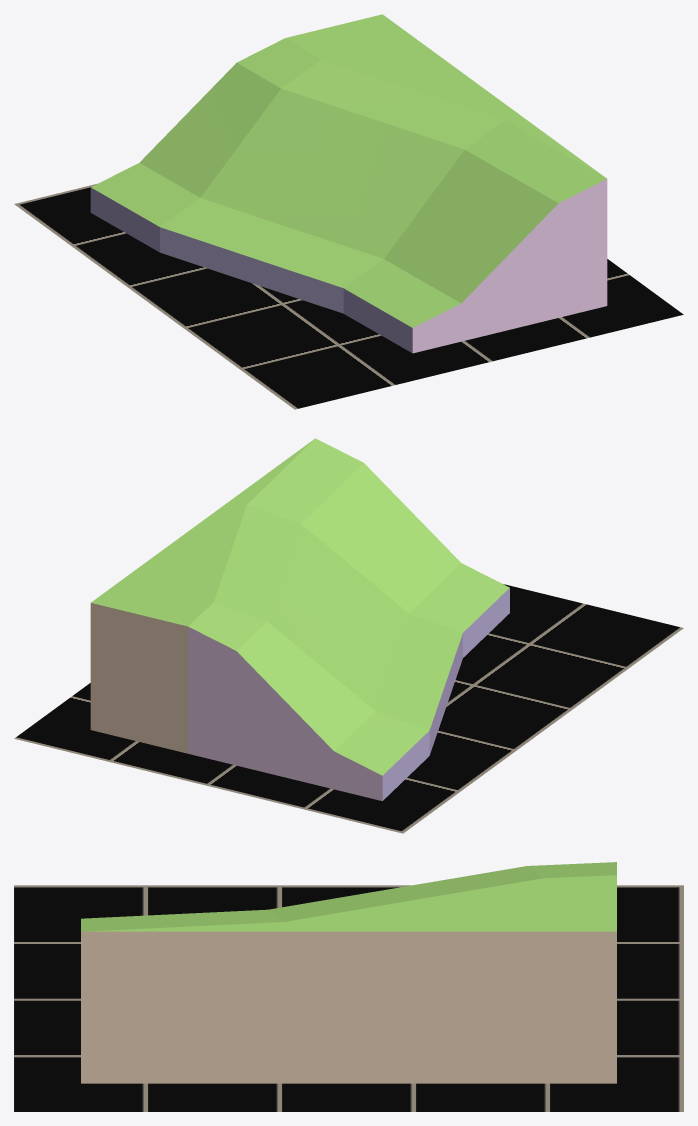
File: Grass_Hill_Sharp_Esse_4x3.glb
3 views of the same model, one above another, from view 1: azimuth 30°, elevation 25°; view 2: azimuth 150°, elevation 25°; view 3: azimuth 270°, elevation 25° (orthographic). The views are drawn at different scales.
Parts seen in each view (by area): view 1: Grass_Hill_Sharp_Esse_4x3, Floor; view 2: Grass_Hill_Sharp_Esse_4x3, Floor; view 3: Grass_Hill_Sharp_Esse_4x3, Floor.
Boxes of the visible parts, x1,y1,x2,y2 form: Grass_Hill_Sharp_Esse_4x3: (90, 14, 607, 353); Floor: (14, 183, 683, 409); Grass_Hill_Sharp_Esse_4x3: (90, 438, 509, 800); Floor: (14, 584, 683, 833); Grass_Hill_Sharp_Esse_4x3: (81, 862, 616, 1083); Floor: (14, 885, 683, 1111).
Size of the model in its own units: 400 by 125 by 500.
6 materials, 1 textured.
